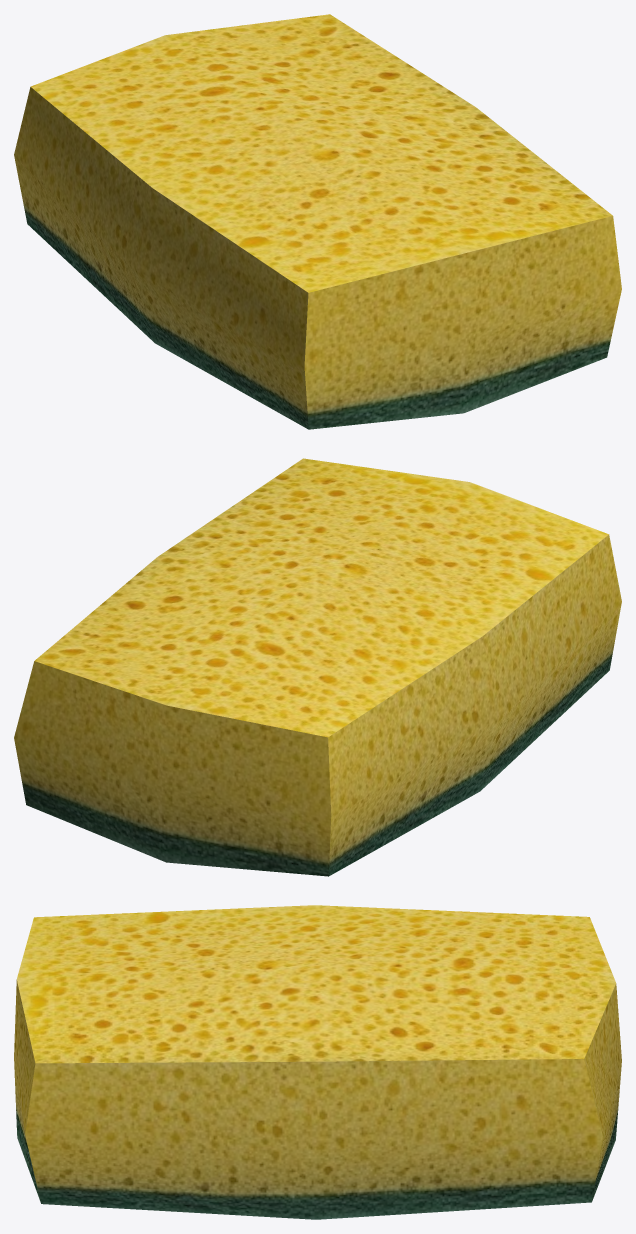
Rendered from gybka.fbx.
The picture shows the model from 3 angles, top to bottom: view 1: azimuth 30°, elevation 25°; view 2: azimuth 150°, elevation 25°; view 3: azimuth 270°, elevation 25°; orthographic projection.
Visible parts, largest first — view 1: gybka; view 2: gybka; view 3: gybka.
Part boxes in pixels (<box>): gybka: <box>14,14,621,429</box>; gybka: <box>14,458,621,876</box>; gybka: <box>14,905,621,1219</box>.
Size of the model in its own units: 11.93 by 5.85 by 17.89.
